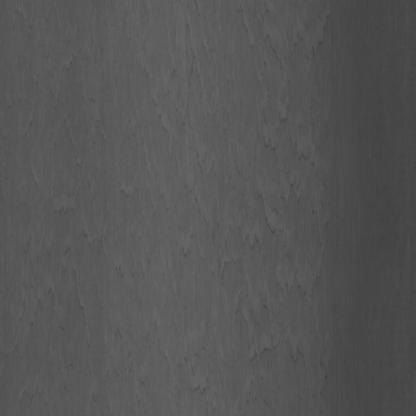silk_spot: (118, 115, 225, 331), (228, 176, 304, 349), (250, 39, 332, 172), (150, 353, 215, 401)
